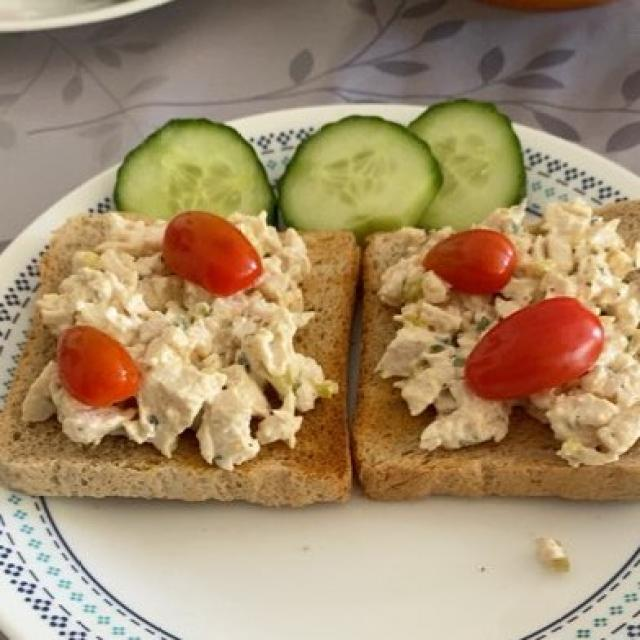bread-wholemeal-toast: (6, 203, 636, 504)
chicken: (30, 206, 636, 479)
cucumber: (114, 110, 524, 235)
